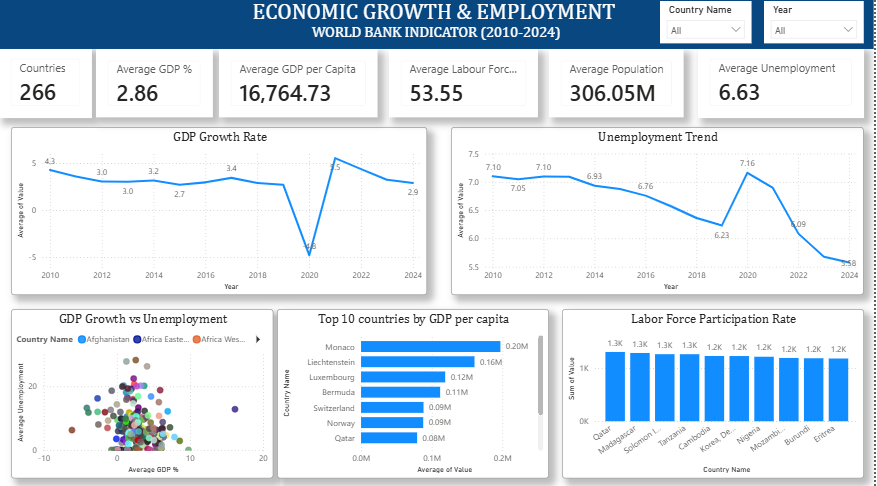

Layout of this report page (visuals, bound fields, positions):
{"tool":"powerbi","page":{"name":"Page 1","canvas":[1280,720],"ordinal":0},"visuals":[{"type":"cardVisual","fields":{"Data":["WDI_cleaned_data (1).Countries"]},"box":[0,75.7,135.6,103.9],"z":0},{"type":"lineChart","title":"GDP Growth Rate","fields":{"Y":["Avg(WDI_cleaned_data (1).Value)"],"Category":["WDI_cleaned_data (1).Year"]},"box":[17.6,193.7,609.2,246.5],"z":1000},{"type":"lineChart","title":"Unemployment Trend ","fields":{"Y":["Avg(WDI_cleaned_data (1).Value)"],"Category":["WDI_cleaned_data (1).Year"]},"box":[662,193.7,603.9,246.5],"z":2000},{"type":"scatterChart","title":"GDP Growth vs Unemployment","fields":{"X":["WDI_cleaned_data (1).Average GDP"],"Y":["WDI_cleaned_data (1).Average Unemployment"],"Series":["WDI_cleaned_data (1).Country Name"]},"box":[17.6,459.5,383.8,248.3],"z":3000},{"type":"barChart","title":"Top 10 countries by GDP per capita","fields":{"Category":["WDI_cleaned_data (1).Country Name"],"Y":["Avg(WDI_cleaned_data (1).Value)"]},"box":[406.7,459.5,397.9,248.3],"z":4000},{"type":"columnChart","title":"Labor Force Participation  Rate","fields":{"Category":["WDI_cleaned_data (1).Country Name"],"Y":["Sum(WDI_cleaned_data (1).Value)"]},"box":[824,459.5,441.9,248.3],"z":5000},{"type":"cardVisual","fields":{"Data":["WDI_cleaned_data (1).Average GDP"]},"box":[142.6,79.2,170.8,100.4],"z":7000},{"type":"cardVisual","fields":{"Data":["WDI_cleaned_data (1).Average GDP per Capita"]},"box":[322.2,79.2,232.4,100.4],"z":8000},{"type":"cardVisual","fields":{"Data":["WDI_cleaned_data (1).Average Labour Force Participation Rate"]},"box":[570.5,79.2,218.3,100.4],"z":9000},{"type":"cardVisual","fields":{"Data":["WDI_cleaned_data (1).Average Population"]},"box":[804.6,79.2,197.2,100.4],"z":10000},{"type":"cardVisual","fields":{"Data":["WDI_cleaned_data (1).Average Unemployment"]},"box":[1022.9,76.1,242.9,103.9],"z":11000},{"type":"textbox","box":[0,0,1280,79.2],"z":12000},{"type":"slicer","fields":{"Values":["WDI_cleaned_data (1).Country Name"]},"box":[966.6,8.8,133.8,61.6],"z":12001},{"type":"slicer","fields":{"Values":["WDI_cleaned_data (1).Year"]},"box":[1119.8,8.8,146.1,61.6],"z":12002}]}

Visuals, with their boxes in screenshot pixels (x1, y1, x2, y2), scaled from the page's 1280x720 canvas onto the 877x486 screenshot:
cardVisual - WDI_cleaned_data (1).Countries: x1=0 y1=51 x2=93 y2=121
"GDP Growth Rate" lineChart: x1=12 y1=131 x2=429 y2=297
"Unemployment Trend " lineChart: x1=454 y1=131 x2=867 y2=297
"GDP Growth vs Unemployment" scatterChart: x1=12 y1=310 x2=275 y2=478
"Top 10 countries by GDP per capita" barChart: x1=279 y1=310 x2=551 y2=478
"Labor Force Participation  Rate" columnChart: x1=565 y1=310 x2=867 y2=478
cardVisual - WDI_cleaned_data (1).Average GDP: x1=98 y1=53 x2=215 y2=121
cardVisual - WDI_cleaned_data (1).Average GDP per Capita: x1=221 y1=53 x2=380 y2=121
cardVisual - WDI_cleaned_data (1).Average Labour Force Participation Rate: x1=391 y1=53 x2=540 y2=121
cardVisual - WDI_cleaned_data (1).Average Population: x1=551 y1=53 x2=686 y2=121
cardVisual - WDI_cleaned_data (1).Average Unemployment: x1=701 y1=51 x2=867 y2=122
textbox: x1=0 y1=0 x2=876 y2=53
slicer - WDI_cleaned_data (1).Country Name: x1=662 y1=6 x2=754 y2=48
slicer - WDI_cleaned_data (1).Year: x1=767 y1=6 x2=867 y2=48
